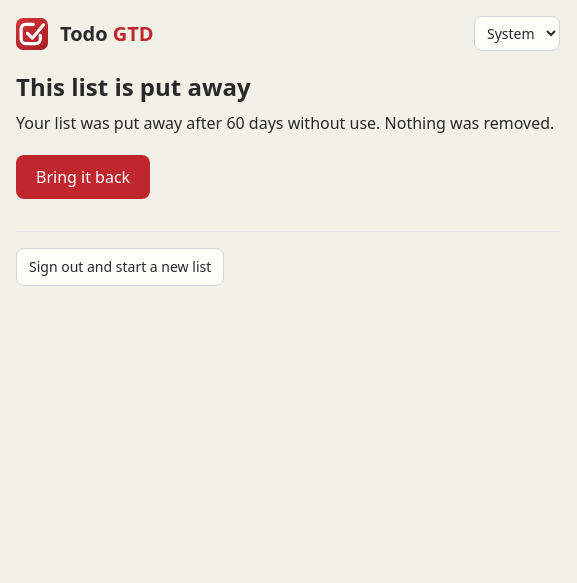
it: an archived list › turns into the removed page when the list was put away for good meanwhile
The image size is (577, 583).
Click the button "Bring it back" at (83, 177), box x1=16 y1=155 x2=150 y2=199
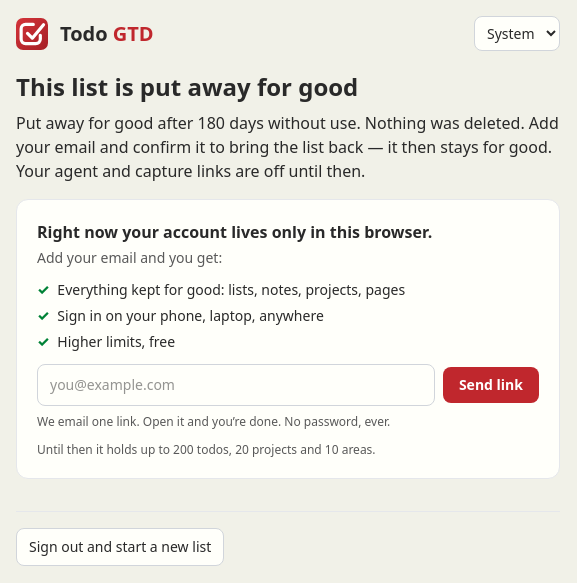
Check: the field with placeholder "you@example.com" is shown, box x1=37 y1=364 x2=435 y2=406
